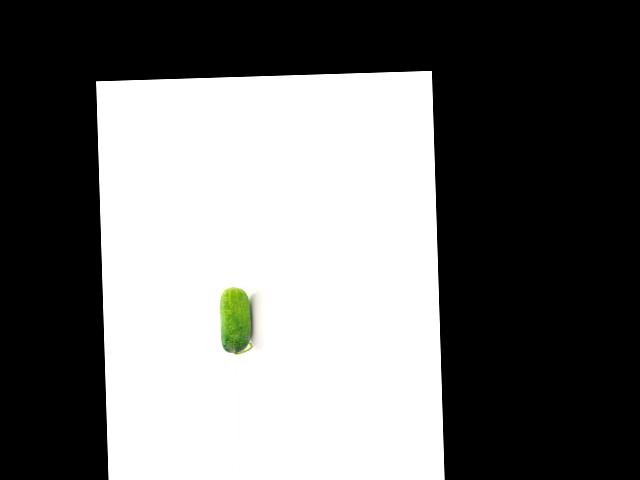cucumber: (219, 285, 253, 354)
